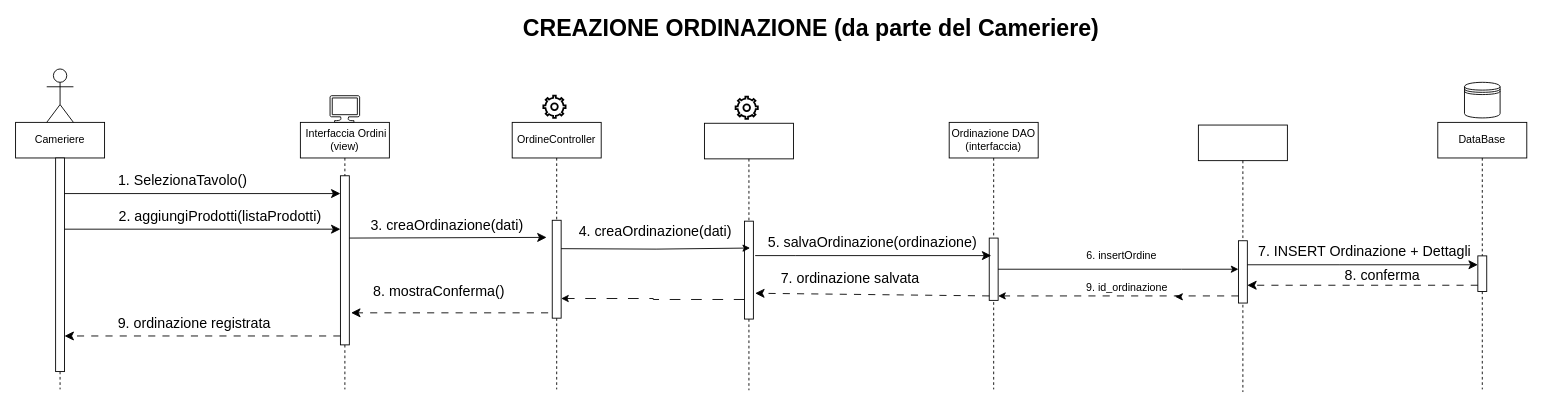
This 1542x408 diagram has some shape labels left out. The box of each missing label's shape, as (x1, y1, x2, y2) in pixels:
Ordinazione DAOImpl: (1197, 124, 1287, 392)
OrdineController facade: (704, 122, 793, 390)
